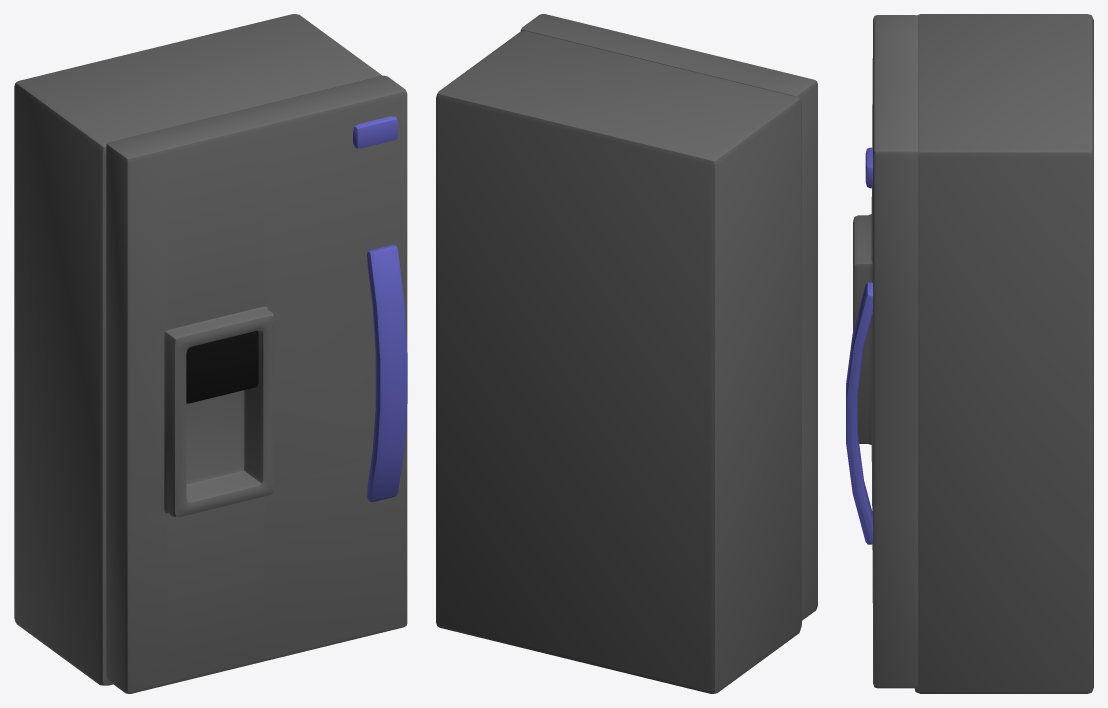
Rendered from SM_fridge.fbx.
3 renders of one model, left to right at view 1: azimuth 30°, elevation 25°; view 2: azimuth 150°, elevation 25°; view 3: azimuth 270°, elevation 25°, orthographic.
Visible parts, largest first — view 1: Box371; view 2: Box371; view 3: Box371.
Part boxes in pixels (<box>): Box371: <box>14,14,407,693</box>; Box371: <box>436,14,817,693</box>; Box371: <box>846,14,1093,693</box>.
Size of the model in its own units: 51.33 by 93.15 by 38.33.
